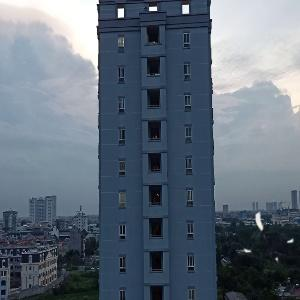drone: (240, 210, 298, 268)
